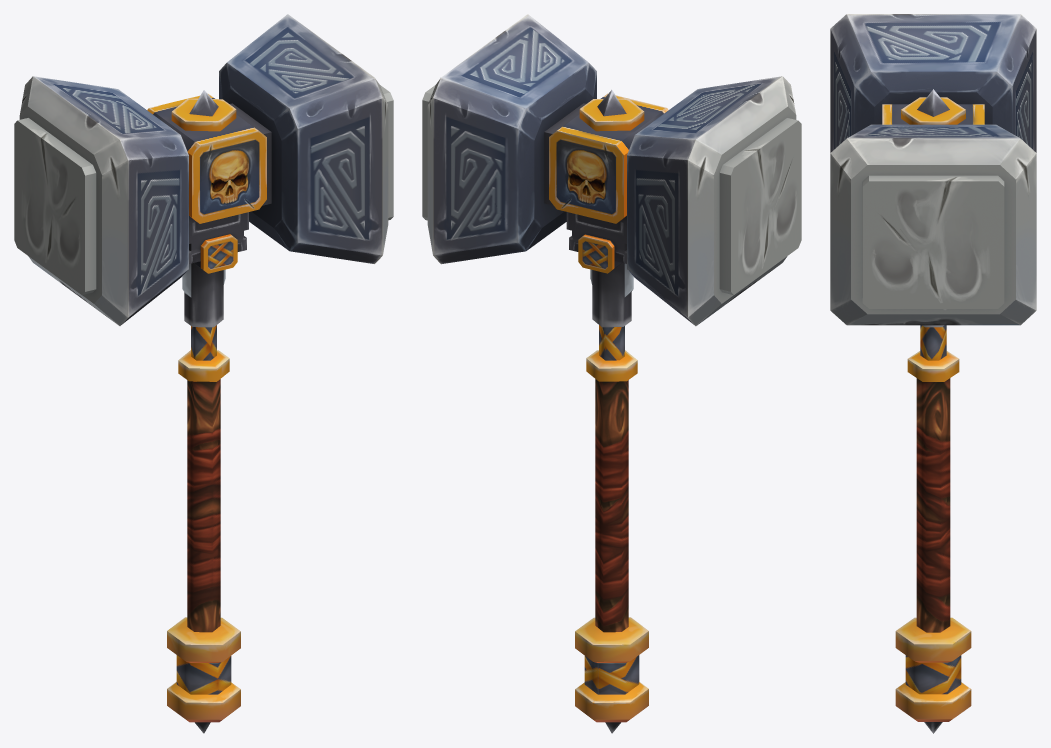
File: hammer.fbx
3 renders of one model, left to right at view 1: azimuth 30°, elevation 25°; view 2: azimuth 150°, elevation 25°; view 3: azimuth 270°, elevation 25°, orthographic.
Parts seen in each view (by area): view 1: hammer; view 2: hammer; view 3: hammer.
Boxes of the visible parts, x1,y1,x2,y2 form: hammer: (14,14,393,733); hammer: (422,14,801,733); hammer: (830,14,1036,733).
Size of the model in its own units: 0.6373 by 1.3 by 0.3683.
